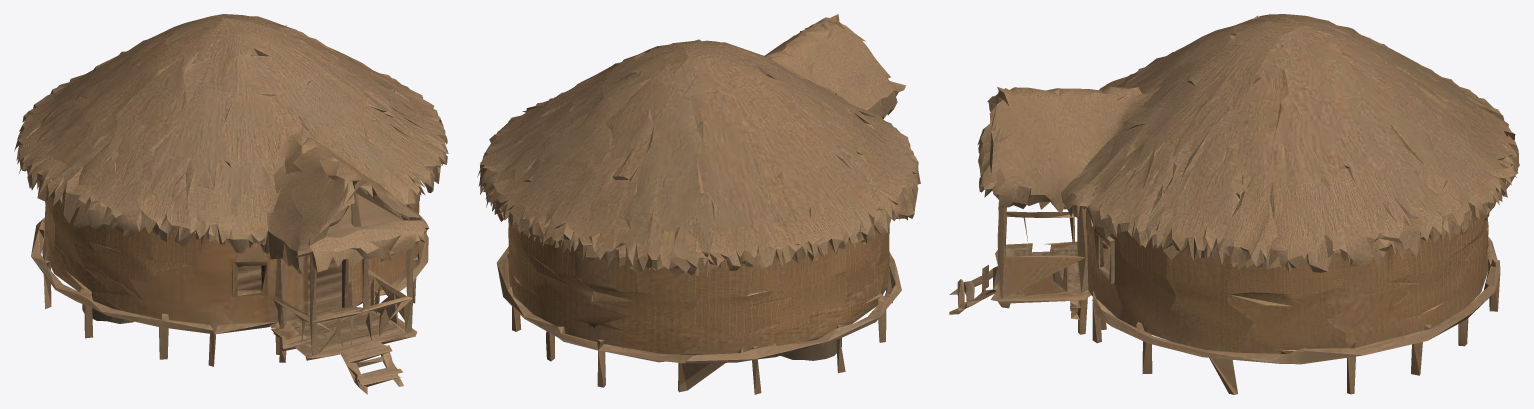
Rendered from Stilt_House_Thatch.glb.
The picture shows the model from 3 angles, left to right: view 1: azimuth 30°, elevation 25°; view 2: azimuth 150°, elevation 25°; view 3: azimuth 270°, elevation 25°; orthographic projection. The views are drawn at different scales.
Size of the model in its own units: 1.58 by 1.03 by 1.87.
1 material, 1 textured.
